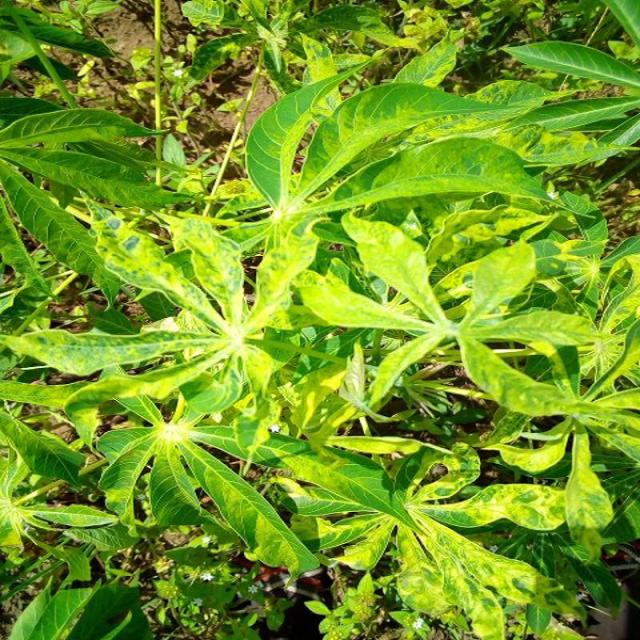Mosaico: (305, 436, 633, 636), (316, 224, 592, 440), (239, 17, 606, 165), (108, 198, 370, 404)
